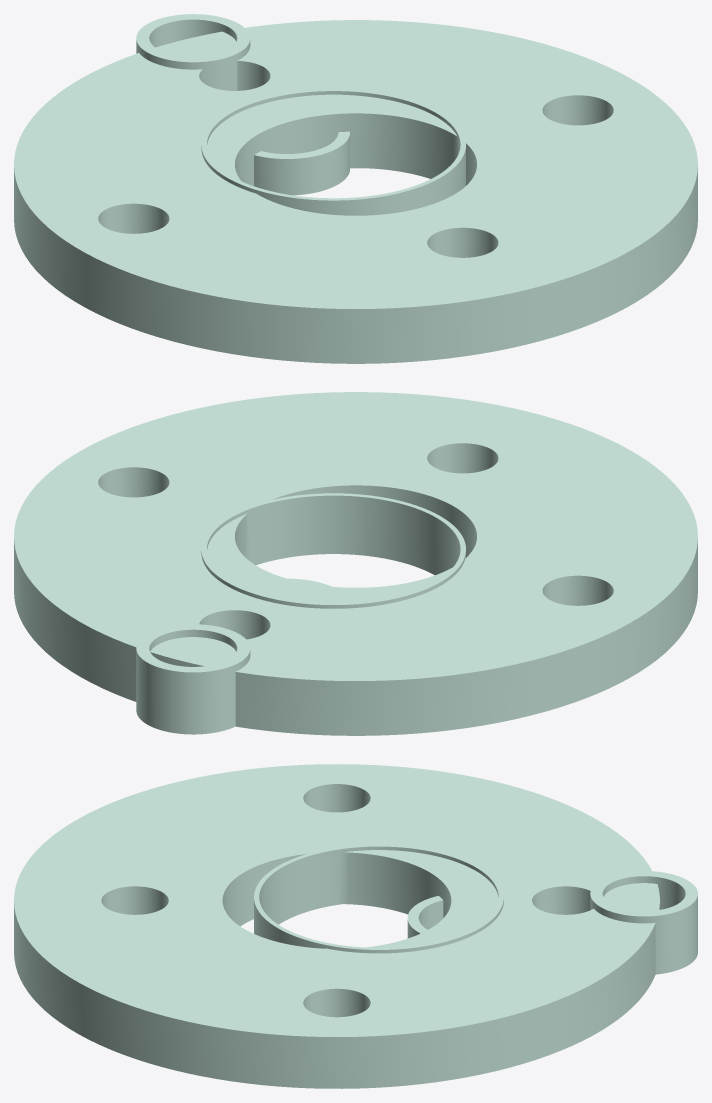
3 renders of one model, top to bottom at view 1: azimuth 30°, elevation 25°; view 2: azimuth 150°, elevation 25°; view 3: azimuth 270°, elevation 25°, orthographic. The views are drawn at different scales.
Visible parts, largest first — view 1: Renderer Node; view 2: Renderer Node; view 3: Renderer Node.
Boxes of the visible parts, box(x1,y1,x2,y2) form: Renderer Node: box(14, 14, 697, 363); Renderer Node: box(14, 392, 697, 735); Renderer Node: box(14, 764, 697, 1088).
Bounding box in the file's own units: 1.33 × 0.1328 × 1.4.
